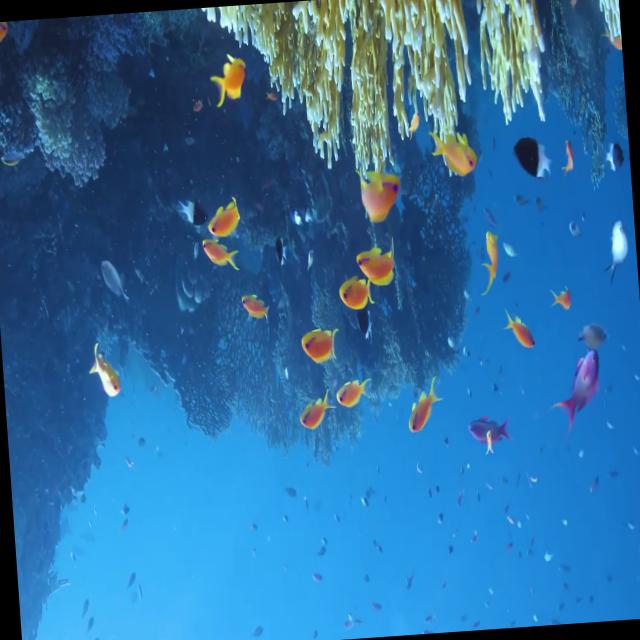fish: (558, 348, 604, 430), (430, 123, 483, 179), (403, 374, 444, 434), (361, 172, 405, 224), (510, 134, 553, 184), (213, 50, 250, 104), (355, 241, 397, 287), (298, 322, 340, 365), (88, 344, 118, 404), (206, 192, 241, 240), (470, 413, 510, 454), (336, 273, 374, 312), (200, 235, 238, 272), (336, 374, 375, 409), (240, 288, 272, 330), (484, 233, 506, 292), (299, 390, 331, 430), (502, 310, 536, 346)
